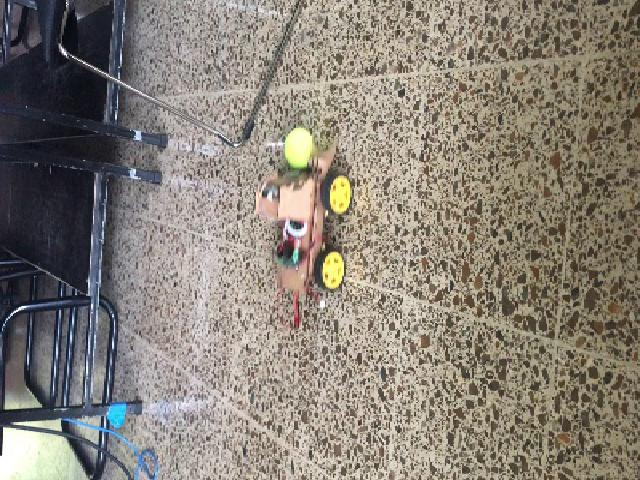Ball: (283, 127, 312, 168)
Robot: (253, 140, 354, 293)
